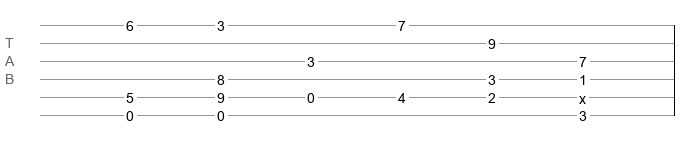0: (126, 108, 134, 118), (217, 108, 225, 118), (307, 90, 315, 100)
1: (579, 72, 587, 82)
2: (488, 90, 496, 100)
3: (217, 18, 225, 28), (307, 54, 315, 64), (488, 72, 496, 82), (579, 108, 587, 118)
4: (398, 90, 406, 100)
5: (126, 90, 134, 100)
6: (126, 18, 134, 28)
7: (398, 18, 406, 28), (579, 54, 587, 64)
8: (217, 72, 225, 82)
9: (217, 90, 225, 100), (488, 36, 496, 46)
x: (579, 91, 586, 99)
